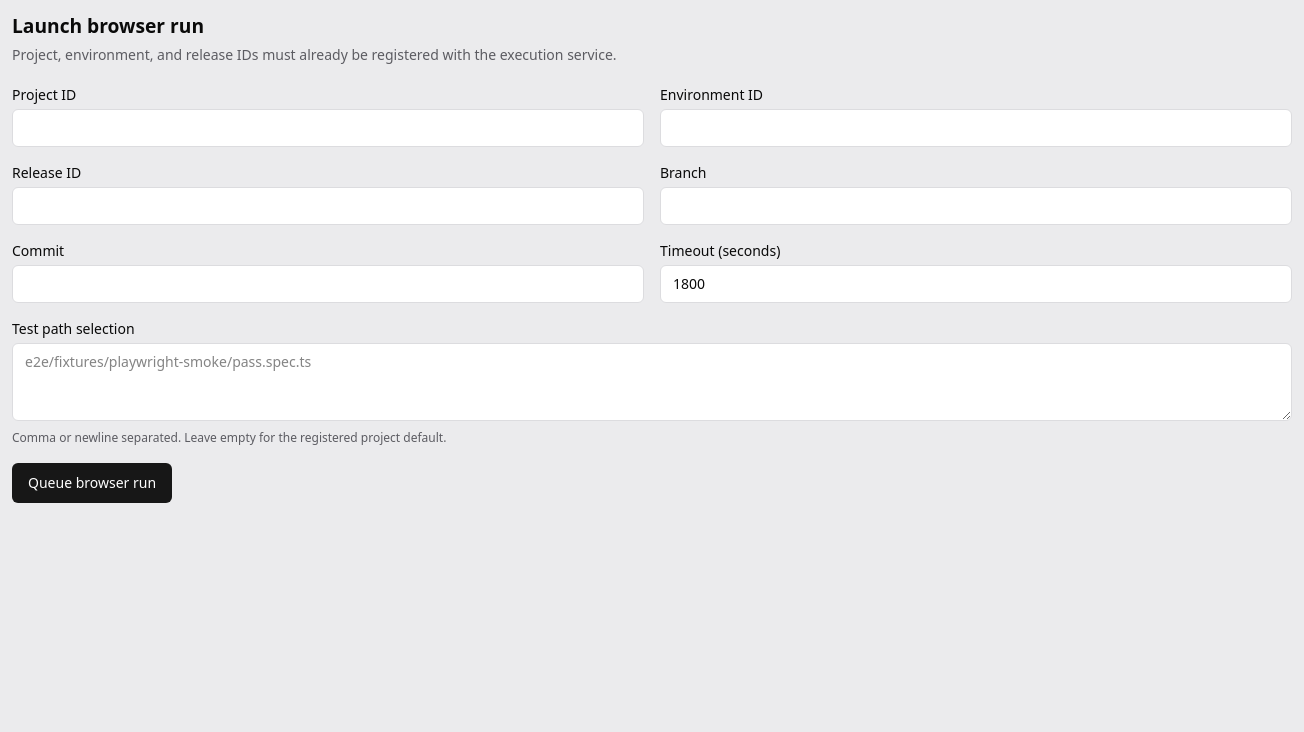
Test case: dashboard routes › creates a canonical browser run with registered execution context
In the field with test id "launch-project-id": (328, 128) [12, 109, 644, 147], type "project-1"
In the field with test id "launch-environment-id": (976, 128) [660, 109, 1292, 147], type "environment-1"
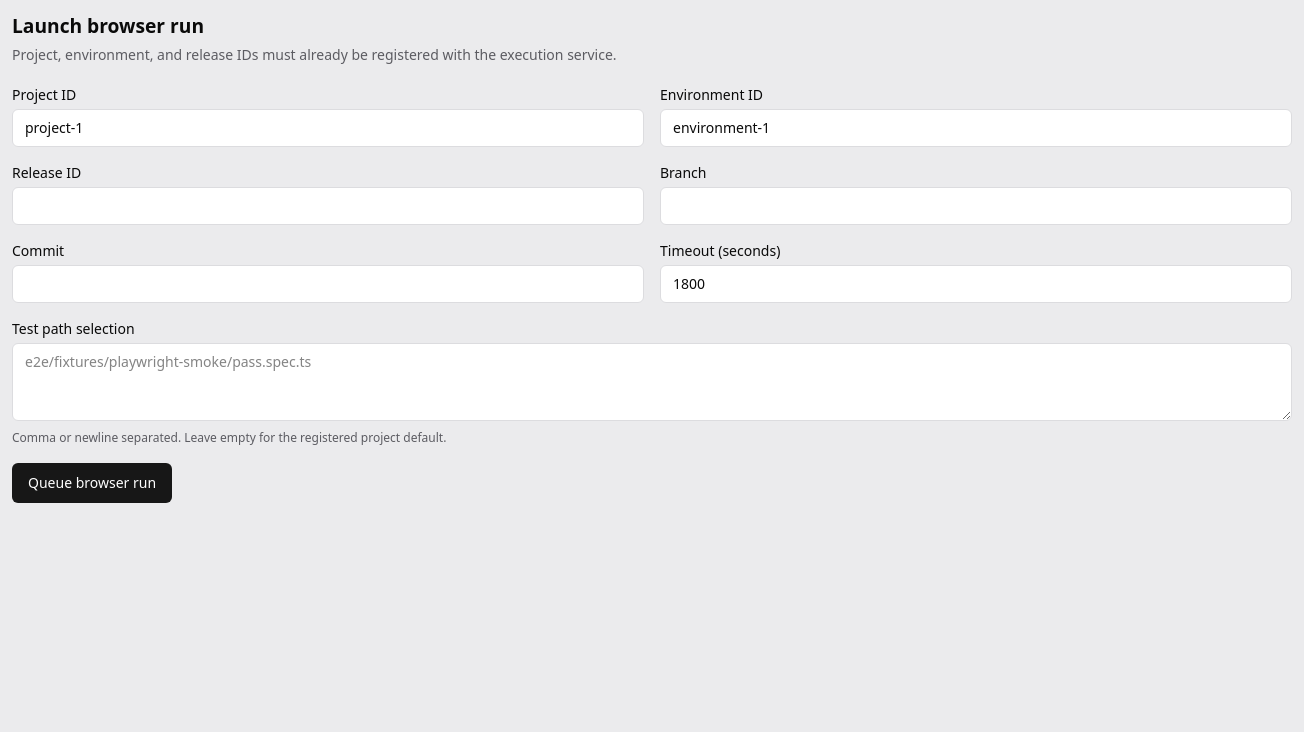
In the field with test id "launch-release-id": (328, 206) [12, 187, 644, 225], type "release-1"
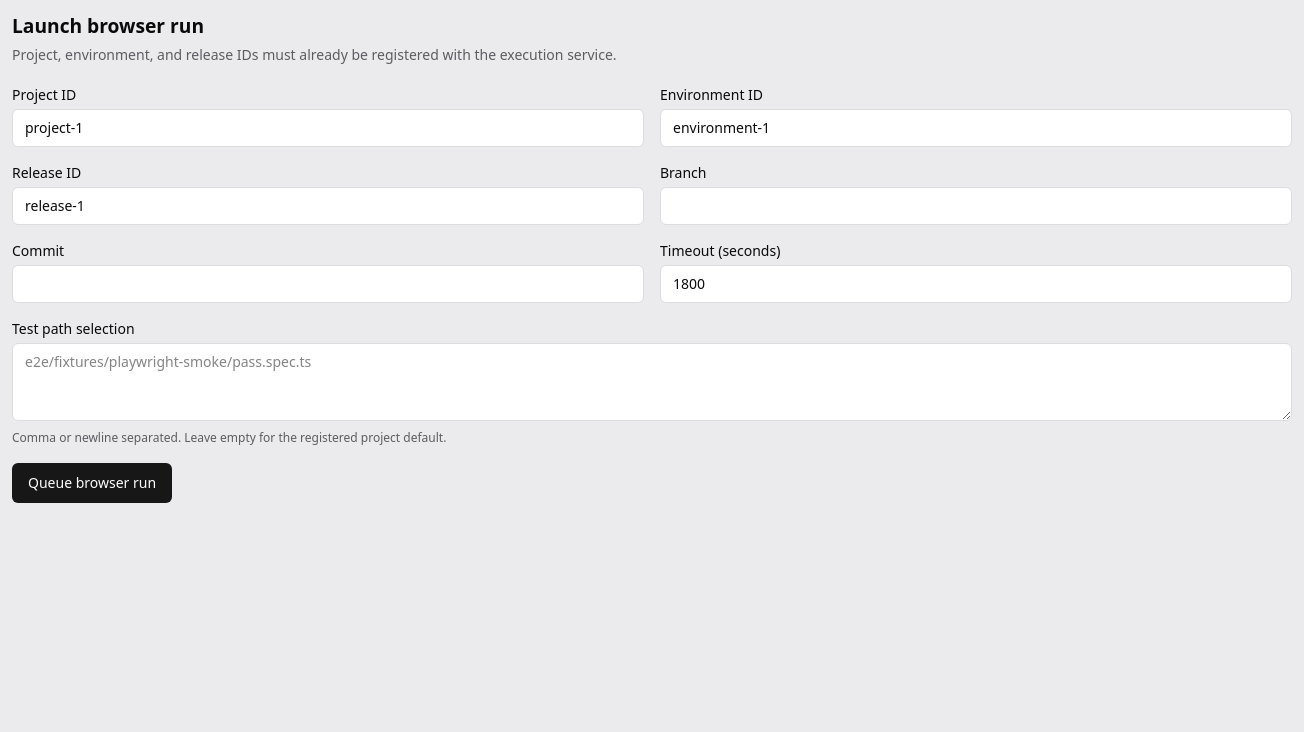
In the field with test id "launch-branch": (976, 206) [660, 187, 1292, 225], type "main"
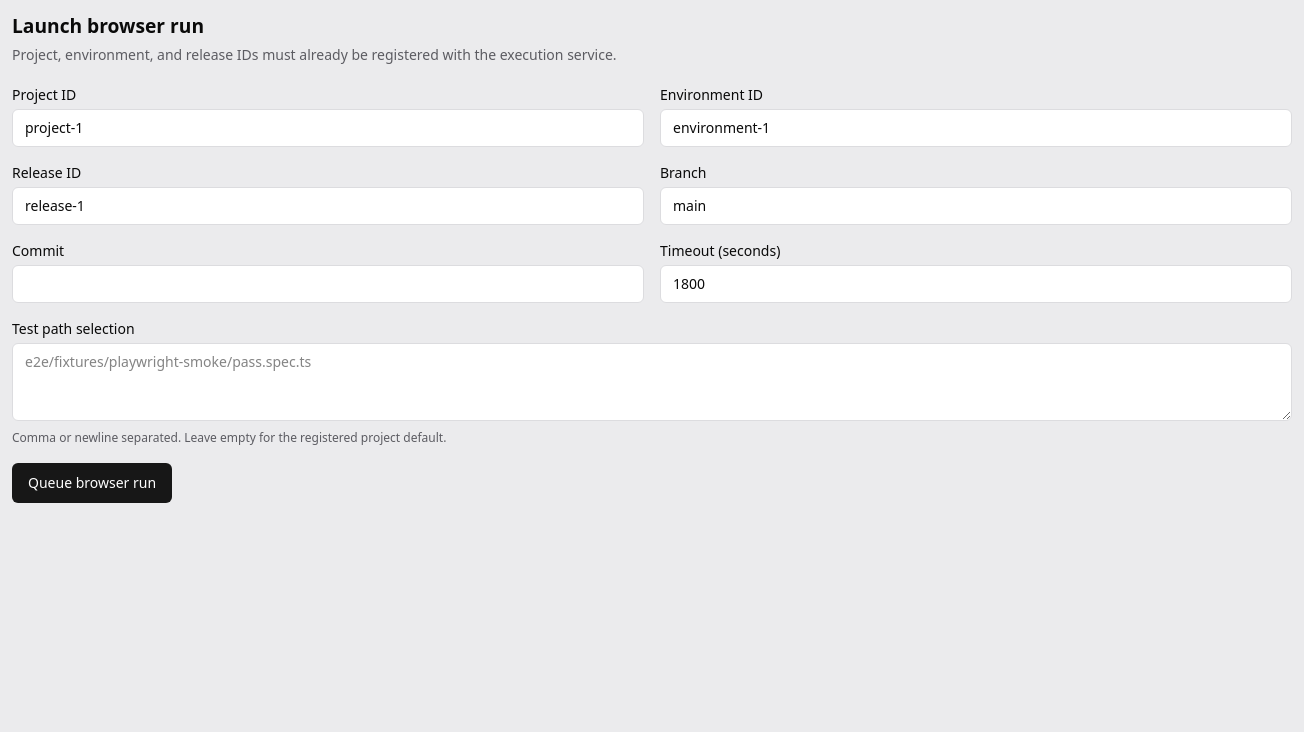
In the field with test id "launch-commit": (328, 284) [12, 265, 644, 303], type "abc123"
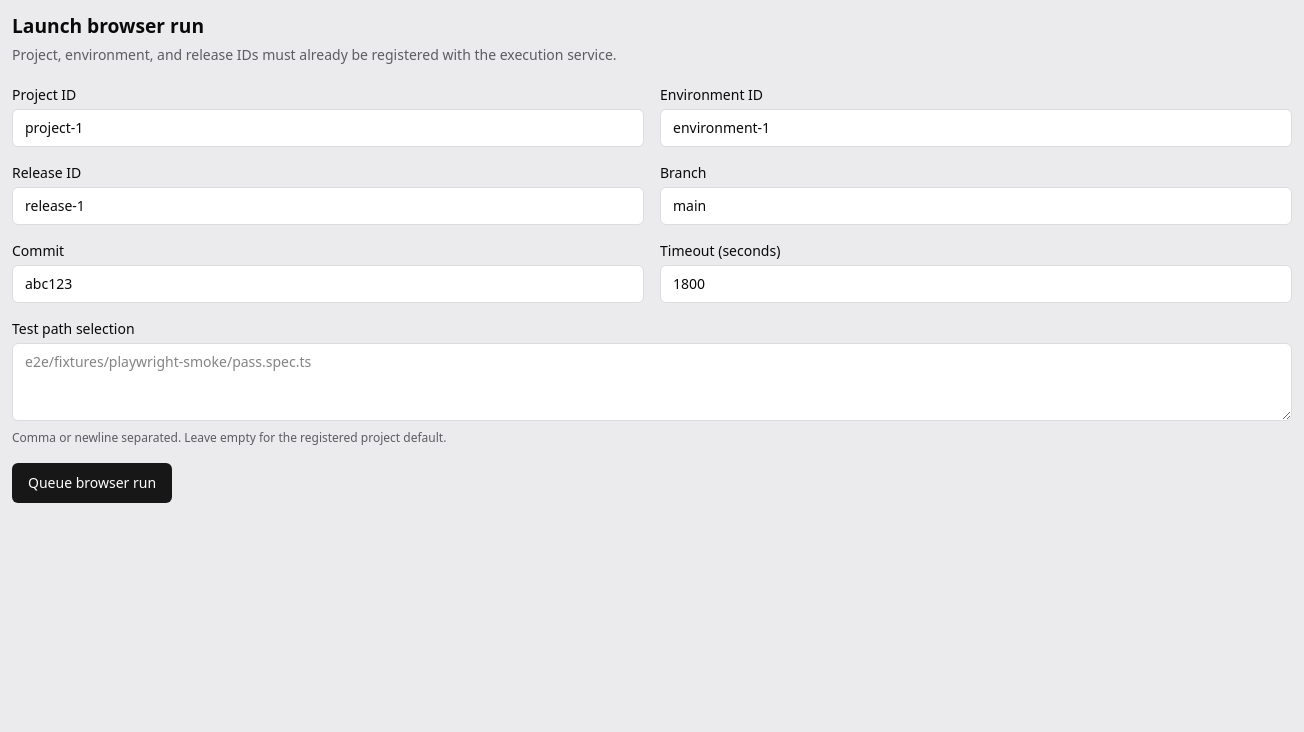
In the text box with test id "launch-selection": (652, 382) [12, 343, 1292, 421], type "e2e/smoke.spec.ts"
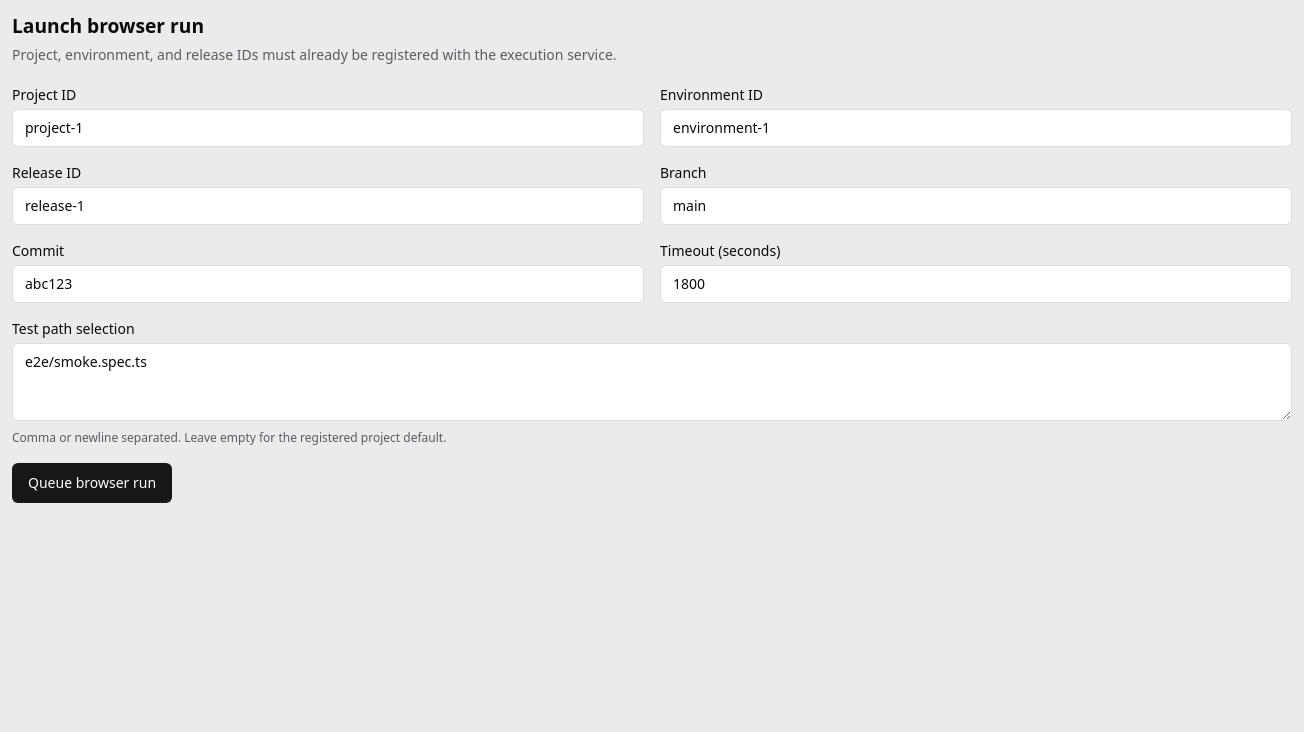
Click the button with test id "launch-run-submit": (92, 483) [12, 463, 172, 503]
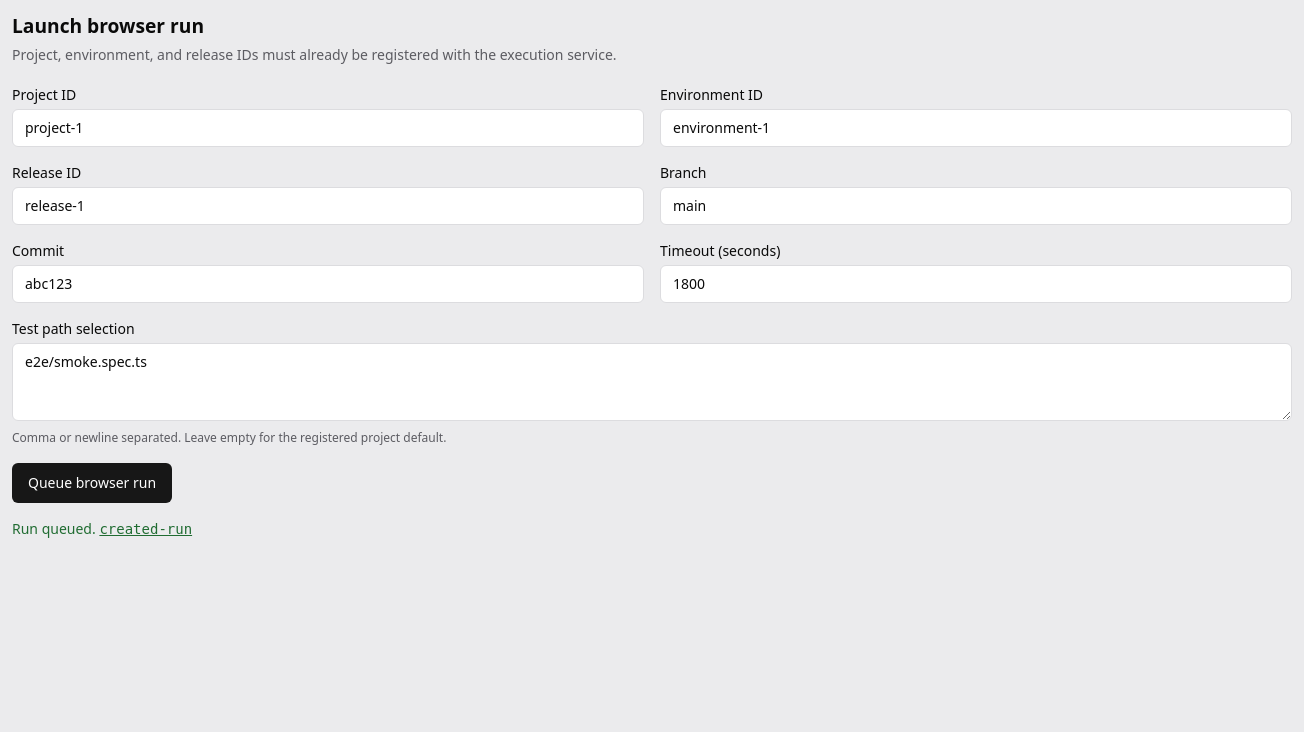
Expected: the element with test id "launch-run-created" shows "Run queued", [12, 519, 96, 538]
